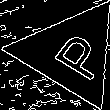P_NW: (36, 24, 105, 82)
